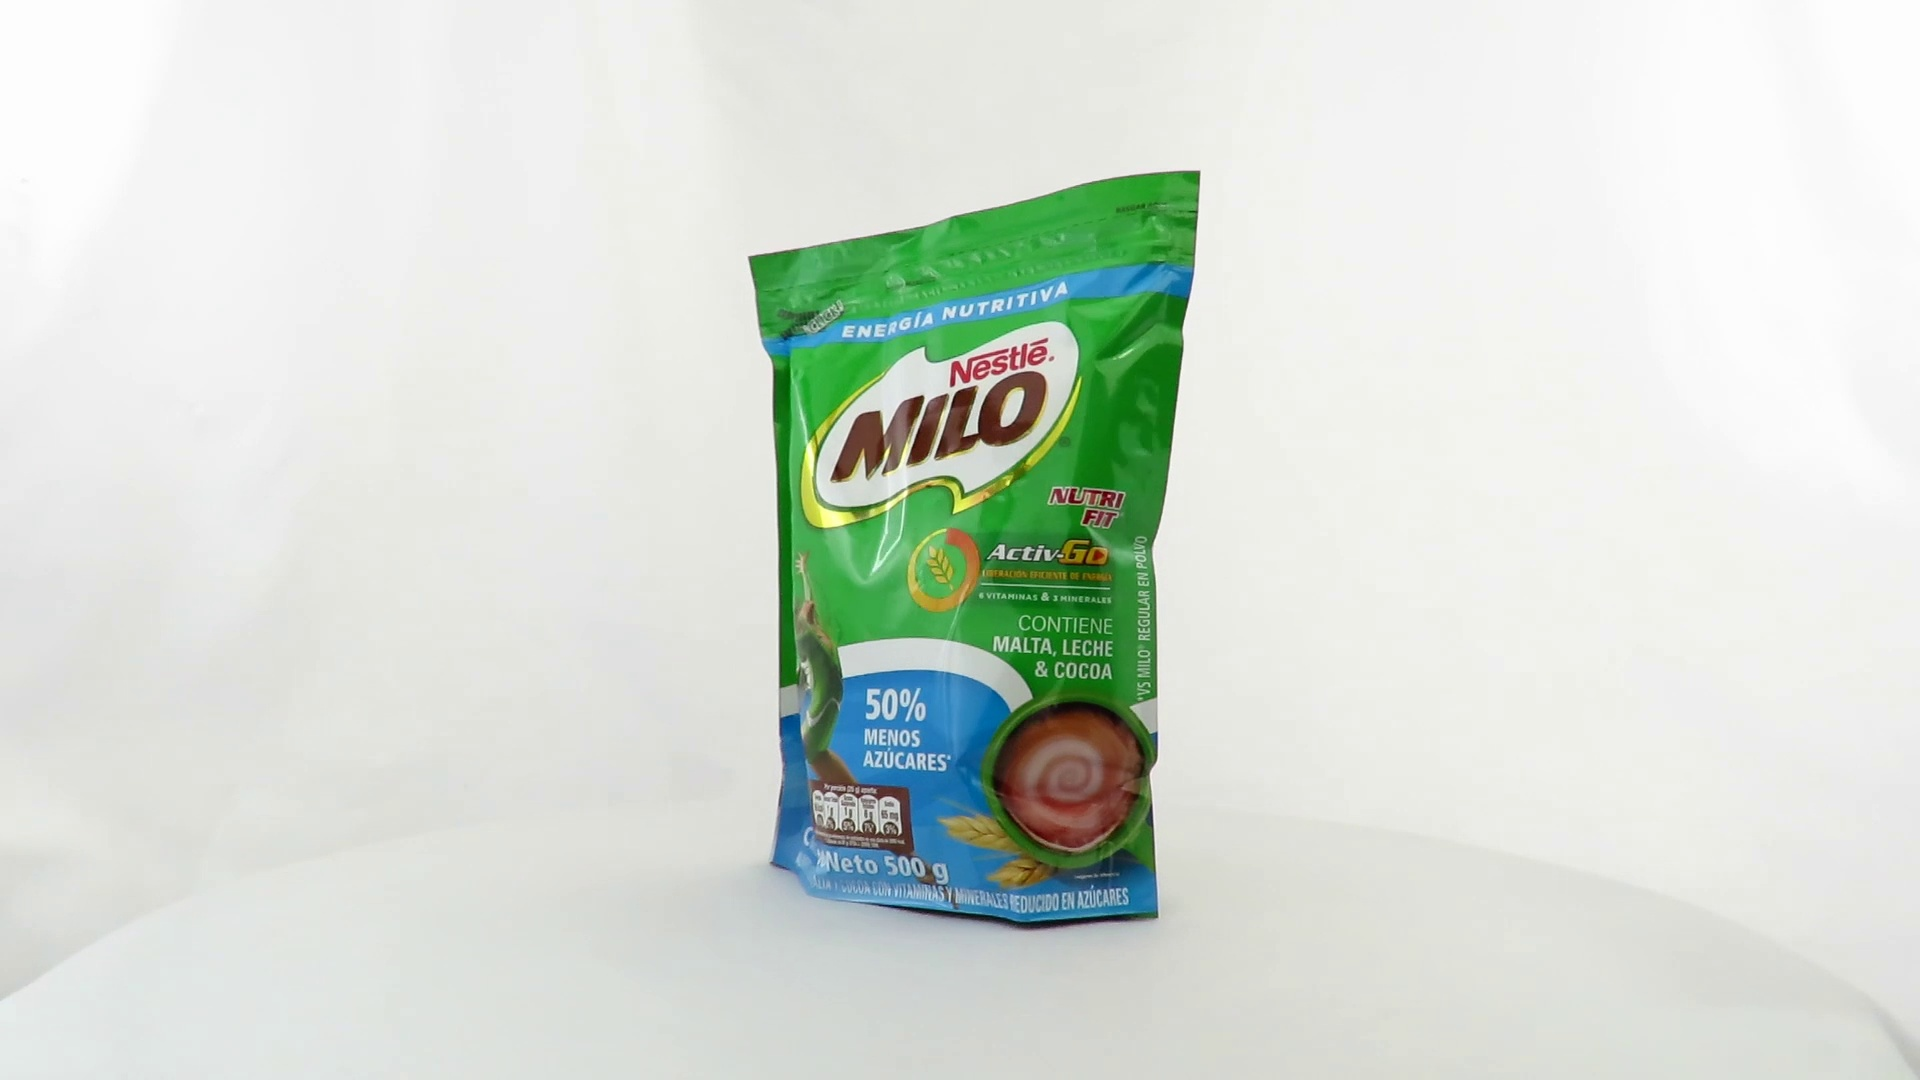COL0170205DYP50000: (742, 165, 1207, 938)
